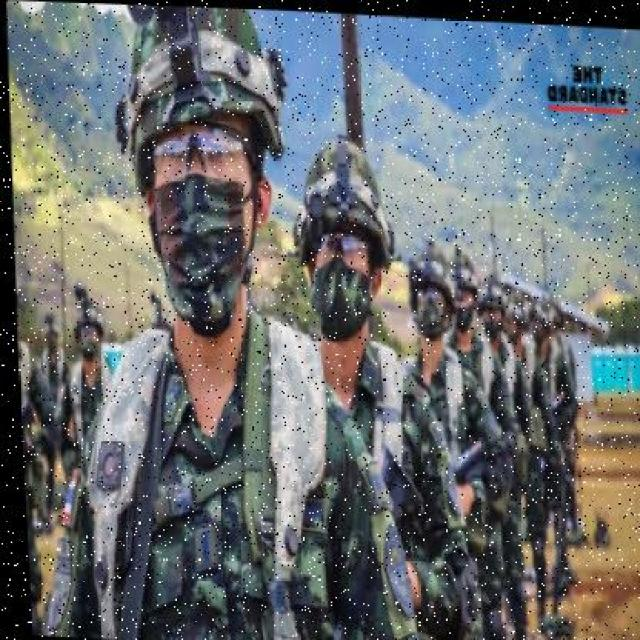MIL_Pax: (54, 17, 334, 640), (286, 120, 437, 640), (393, 227, 498, 640), (472, 277, 542, 640), (526, 278, 574, 613), (45, 272, 123, 465), (10, 246, 44, 634)
